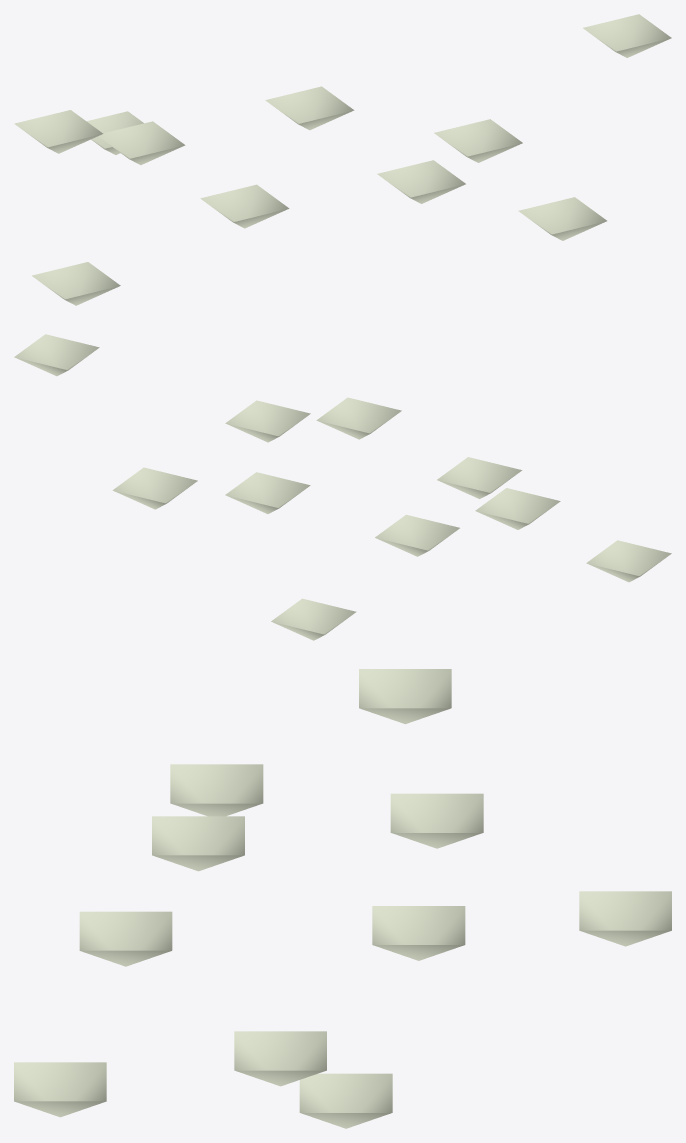
3 views of the same model, one above another, from view 1: azimuth 30°, elevation 25°; view 2: azimuth 150°, elevation 25°; view 3: azimuth 270°, elevation 25° (orthographic). The views are drawn at different scales.
Parts seen in each view (by area): view 1: Object15; view 2: Object15; view 3: Object15.
Part boxes in pixels (box(x1,y1,x2,y2)): Object15: box(14, 14, 671, 305); Object15: box(14, 334, 671, 640); Object15: box(14, 669, 671, 1128).
Size of the model in its own units: 124 by 21.88 by 79.22.
